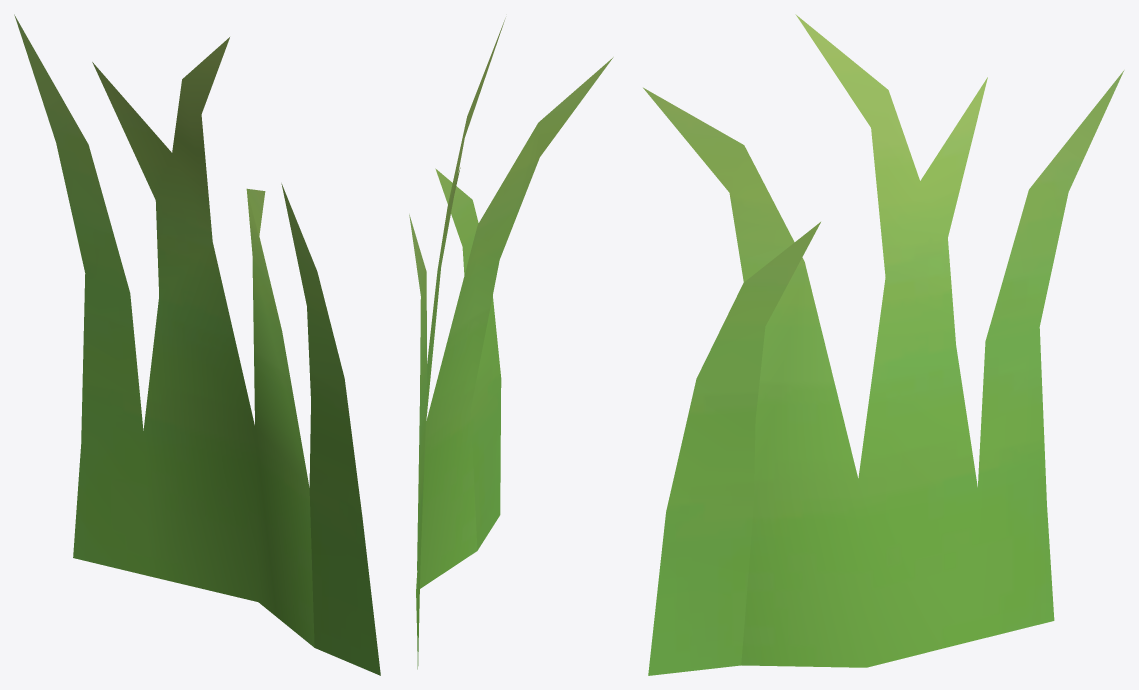
File: Misc_Grass2.fbx
The picture shows the model from 3 angles, left to right: view 1: azimuth 30°, elevation 25°; view 2: azimuth 150°, elevation 25°; view 3: azimuth 270°, elevation 25°; orthographic projection. The views are drawn at different scales.
Parts seen in each view (by area): view 1: Grass2; view 2: Grass2; view 3: Grass2.
Part boxes in pixels (bbox=[...]): Grass2: bbox=[14, 14, 380, 675]; Grass2: bbox=[409, 18, 613, 669]; Grass2: bbox=[643, 14, 1124, 675].
Size of the model in its own units: 0.1081 by 0.4645 by 0.3262.
